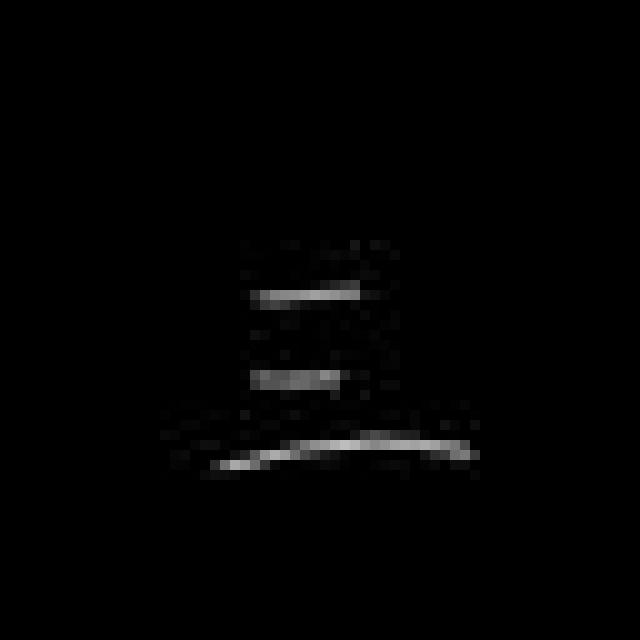3 -three-: (196, 275, 485, 492)
